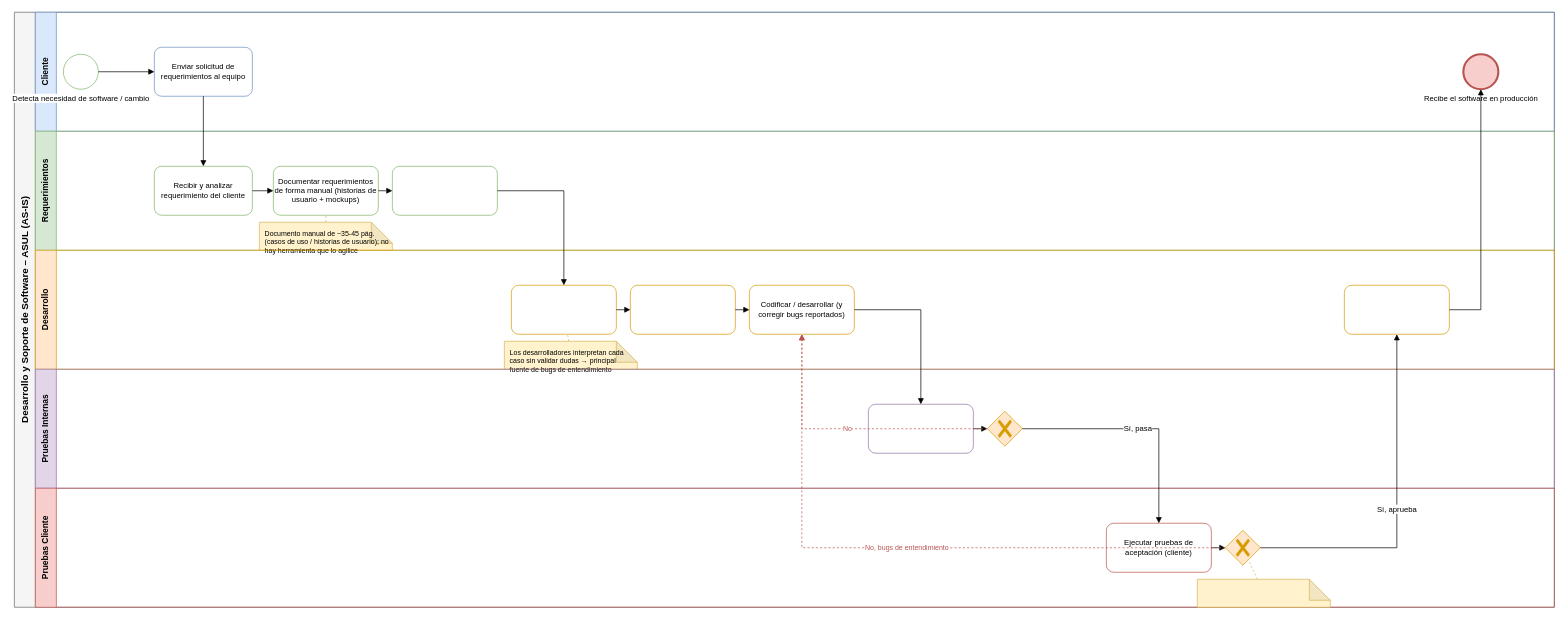
The diagram is 1567 pixels wide and 620 high, and some of its shapes have lost their labels. Here are the shapes that lost their labels. From the top down, the centre of each, then its label:
At (x=444, y=190): "Firmar y aprobar documento con el cliente".
At (x=563, y=309): "Interpretar funcionalidades del documento firmado".
At (x=682, y=309): "Estimar y planear el sprint".
At (x=1396, y=309): "Desplegar en ambiente de producción del cliente".
At (x=920, y=428): "Ejecutar pruebas internas de software".
At (x=1004, y=428): "¿Pasa pruebas internas?".
At (x=1242, y=547): "¿Cliente aprueba?".
At (x=1263, y=593): "Se devuelve mucho trabajo a desarrollo por bugs de entendimiento, no de código".
